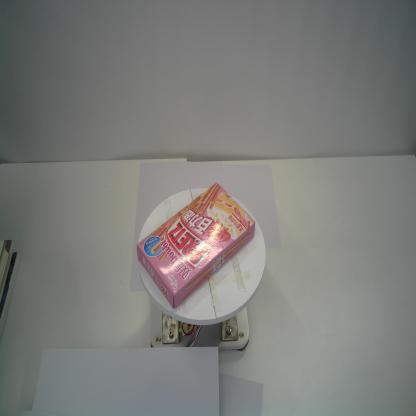Dessert: (136, 181, 256, 310)
